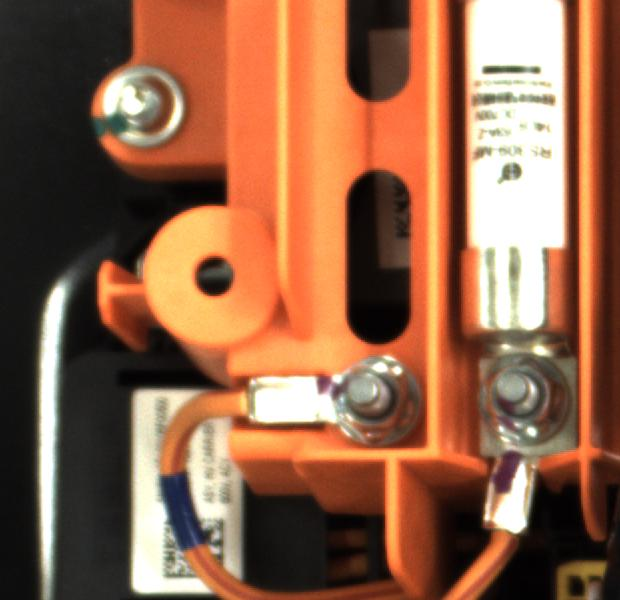screw_m: (92, 60, 206, 156)
screw_s: (321, 349, 419, 449), (474, 351, 579, 444)
